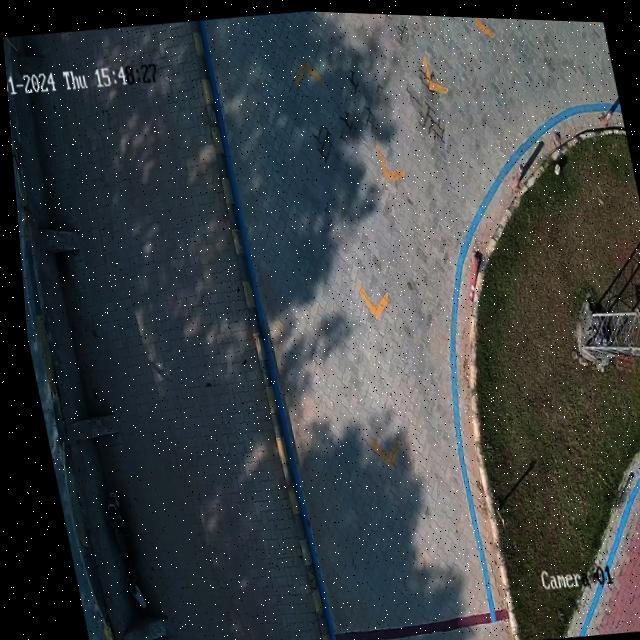No Car: (2, 9, 640, 640)
